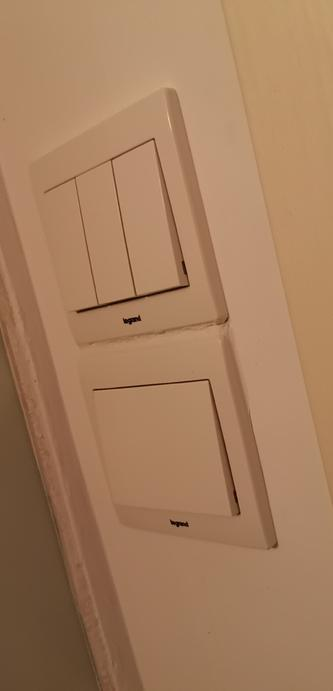switch: (80, 376, 254, 528), (120, 139, 201, 291), (40, 180, 96, 316), (80, 161, 129, 312)
